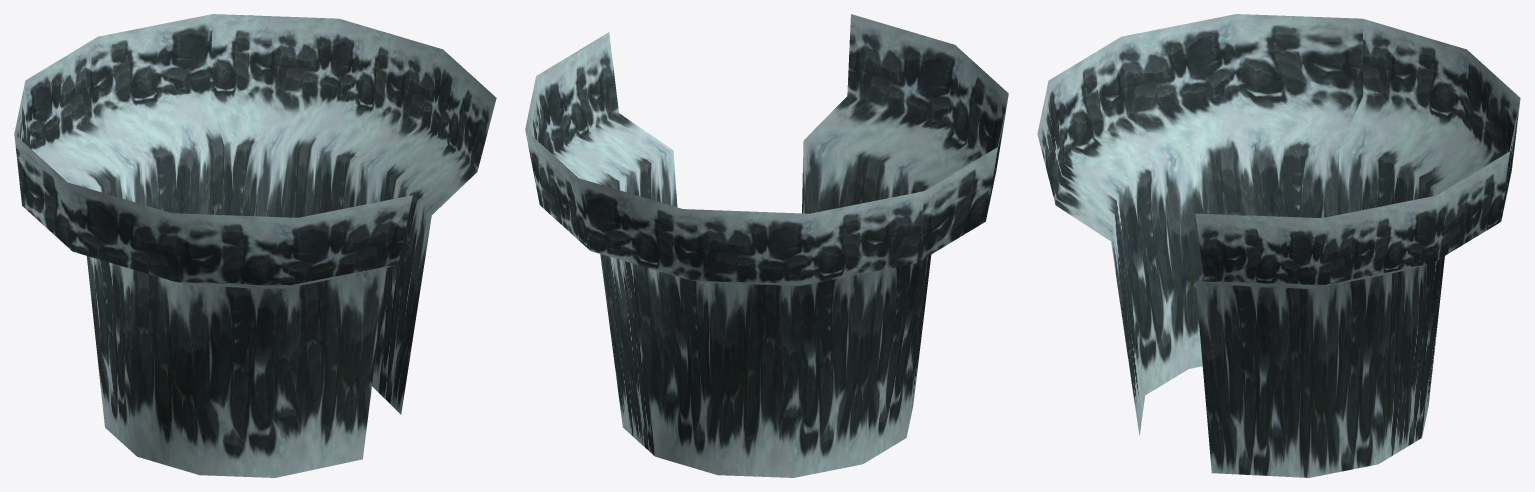
The model's file is terrain_section05_guanka10_dimian03.FBX.
The picture shows the model from 3 angles, left to right: view 1: azimuth 30°, elevation 25°; view 2: azimuth 150°, elevation 25°; view 3: azimuth 270°, elevation 25°; orthographic projection.
Visible parts, largest first — view 1: terrain_section05_guanka10_dimian03; view 2: terrain_section05_guanka10_dimian03; view 3: terrain_section05_guanka10_dimian03.
Part boxes in pixels (<box>): terrain_section05_guanka10_dimian03: <box>14,14,496,477</box>; terrain_section05_guanka10_dimian03: <box>525,14,1008,477</box>; terrain_section05_guanka10_dimian03: <box>1037,14,1520,477</box>.
Bounding box in the file's own units: 87.62 × 87.62 × 60.48.
